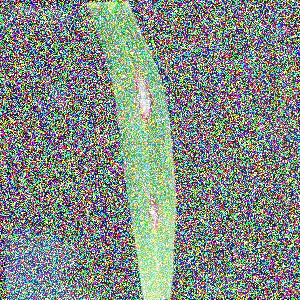Brown_Spot: (134, 56, 172, 134), (137, 176, 169, 234)
